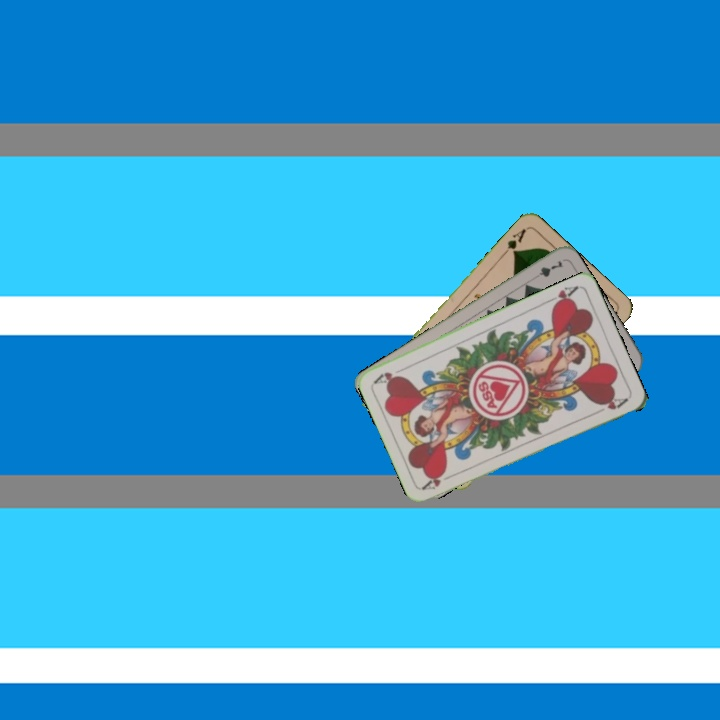G7: (528, 256, 566, 283)
GA: (499, 225, 529, 258)
HA: (543, 281, 581, 310), (419, 469, 458, 493)
